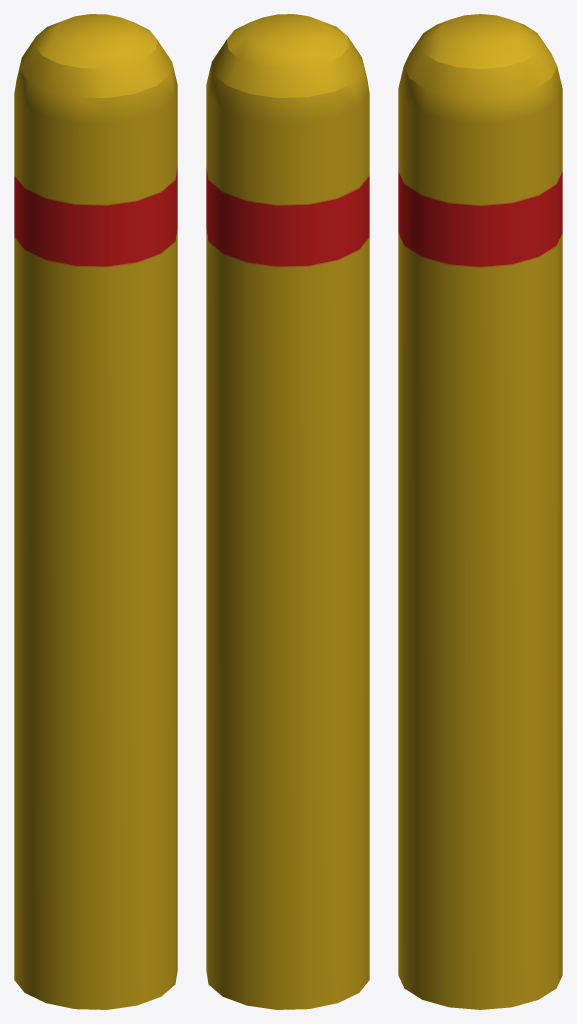
File: Bollard.fbx
3 renders of one model, left to right at view 1: azimuth 30°, elevation 25°; view 2: azimuth 150°, elevation 25°; view 3: azimuth 270°, elevation 25°, orthographic.
Parts seen in each view (by area): view 1: pCylinder21; view 2: pCylinder21; view 3: pCylinder21.
Part boxes in pixels (bbox=[...]): pCylinder21: bbox=[14, 14, 177, 1009]; pCylinder21: bbox=[206, 14, 369, 1009]; pCylinder21: bbox=[398, 14, 562, 1009].
Bounding box in the file's own units: 1.06 × 6.75 × 1.06.
